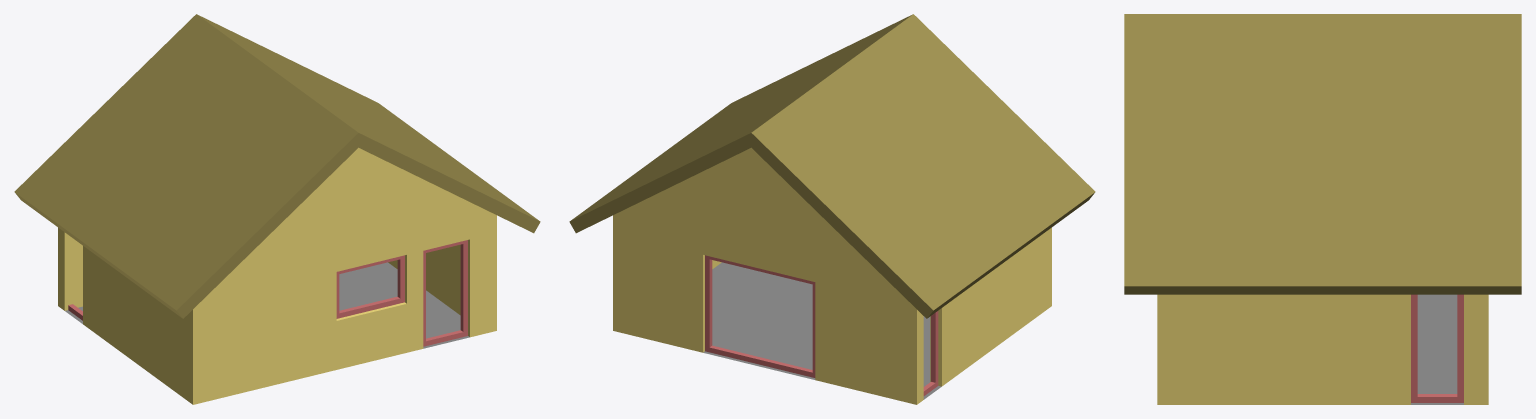
Rendered from result.glb.
The picture shows the model from 3 angles, left to right: view 1: azimuth 30°, elevation 25°; view 2: azimuth 150°, elevation 25°; view 3: azimuth 270°, elevation 25°; orthographic projection. The views are drawn at different scales.
Parts seen in each view (by area): view 1: dbd4a827-127c-49d0-b6b7-536e60e90c6b__undefined (×2), fc69b722-64be-4813-842e-34614ff2438f__undefined, 7039c13c-1eff-4864-9dbf-4a30a212dd5f__Plane_6, 0a99e1e3-faad-45f4-a0a9-804e7ea5eeae__Box, 4ed0d6d4-1f03-486c-974d-bff877827224__Box_3; view 2: dbd4a827-127c-49d0-b6b7-536e60e90c6b__undefined (×2), fc69b722-64be-4813-842e-34614ff2438f__undefined, 7039c13c-1eff-4864-9dbf-4a30a212dd5f__Plane_6, 2f941709-70e3-4a50-92cd-0dc0f43273bf__Box_9, 76ac73cb-7972-42d5-aac3-beea804b85db__Box_12; view 3: dbd4a827-127c-49d0-b6b7-536e60e90c6b__undefined, fc69b722-64be-4813-842e-34614ff2438f__undefined, 7039c13c-1eff-4864-9dbf-4a30a212dd5f__Plane_6, 06fc4496-eb27-40ea-b462-a2f714cf8fb6__Box_15.
Part boxes in pixels (box(x1,y1,x2,y2)): dbd4a827-127c-49d0-b6b7-536e60e90c6b__undefined (×2): box(14, 14, 540, 318); fc69b722-64be-4813-842e-34614ff2438f__undefined: box(58, 147, 496, 404); 7039c13c-1eff-4864-9dbf-4a30a212dd5f__Plane_6: box(65, 262, 469, 348); 0a99e1e3-faad-45f4-a0a9-804e7ea5eeae__Box: box(423, 240, 467, 346); 4ed0d6d4-1f03-486c-974d-bff877827224__Box_3: box(336, 255, 404, 318); dbd4a827-127c-49d0-b6b7-536e60e90c6b__undefined (×2): box(569, 14, 1095, 318); fc69b722-64be-4813-842e-34614ff2438f__undefined: box(613, 147, 1051, 404); 7039c13c-1eff-4864-9dbf-4a30a212dd5f__Plane_6: box(703, 262, 941, 399); 2f941709-70e3-4a50-92cd-0dc0f43273bf__Box_9: box(705, 255, 815, 377); 76ac73cb-7972-42d5-aac3-beea804b85db__Box_12: box(923, 311, 938, 395); dbd4a827-127c-49d0-b6b7-536e60e90c6b__undefined: box(1124, 14, 1521, 294); fc69b722-64be-4813-842e-34614ff2438f__undefined: box(1157, 294, 1488, 404); 7039c13c-1eff-4864-9dbf-4a30a212dd5f__Plane_6: box(1411, 294, 1463, 404); 06fc4496-eb27-40ea-b462-a2f714cf8fb6__Box_15: box(1411, 294, 1463, 402).
Size of the model in its own units: 778 by 500 by 600.
